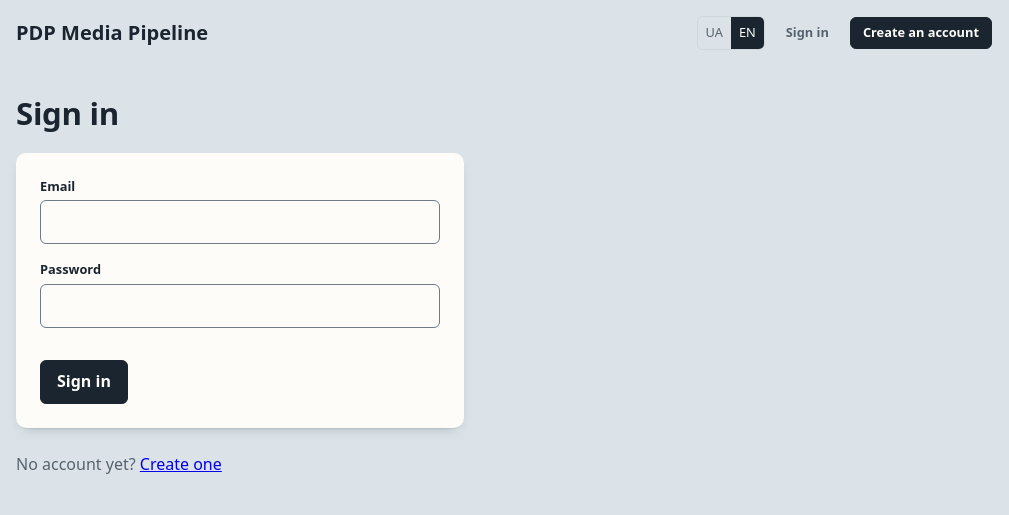
Scenario: signing in › says so when the password is wrong, and clears it
Type "dev@example.com" into the field labelled "Email" at (240, 222), box [40,200,440,244]
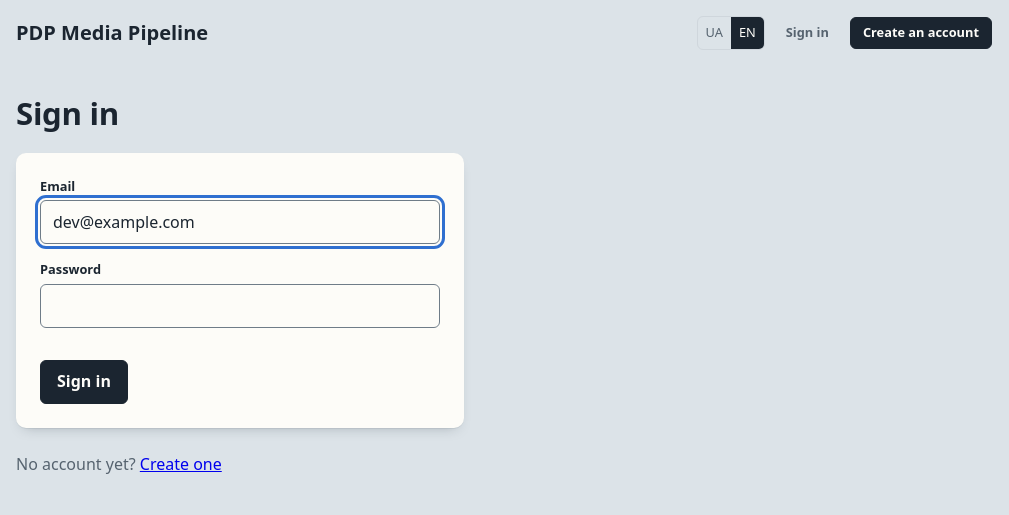
Type "not the password" into the password field labelled "Password" at (240, 306), box [40,284,440,328]
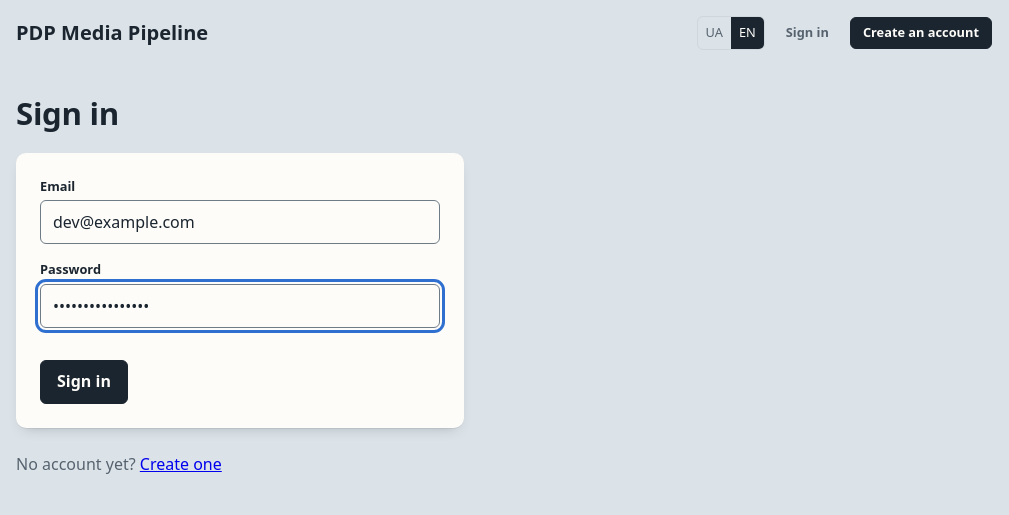
Click the button "Sign in" at (84, 382), box [40,360,128,404]
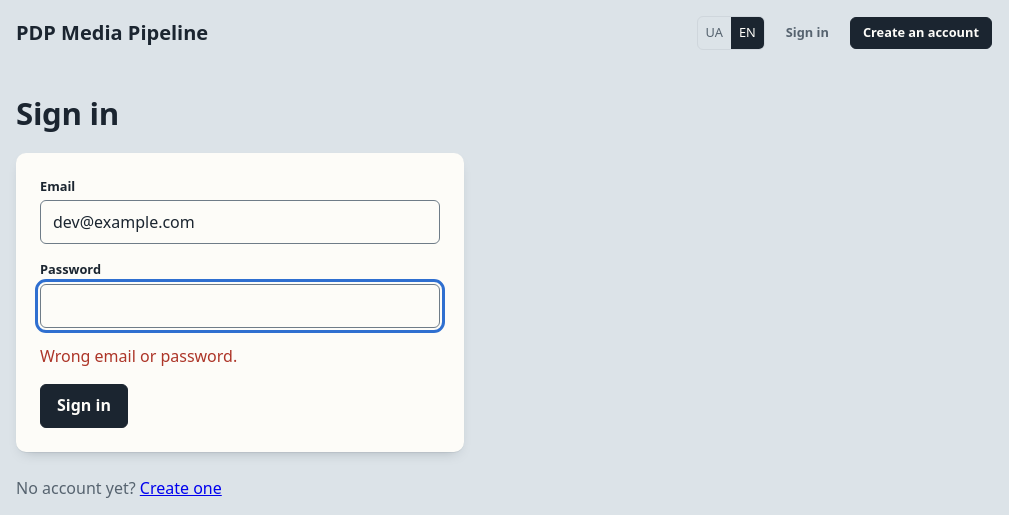
Check: the message reads "Wrong email or password.", box [40,345,237,367]
Check: the password field labelled "Password" is empty, box [40,284,440,328]
